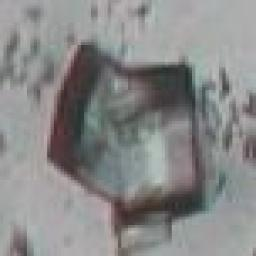crystals: (44, 42, 207, 253)
